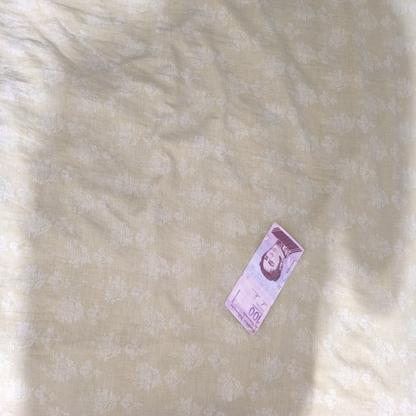one_hundred-front-vef: (222, 220, 305, 336)
